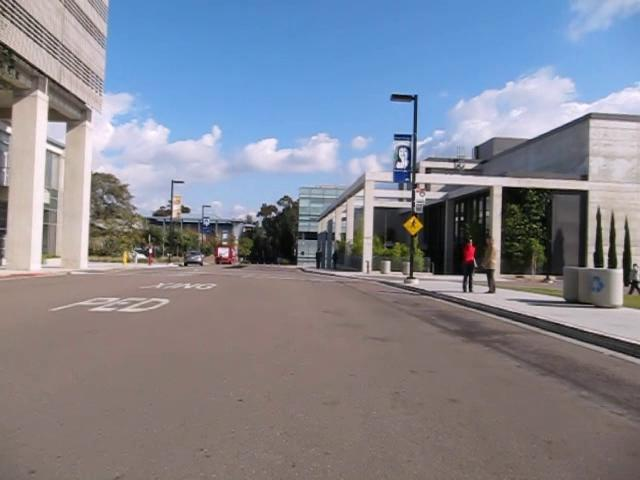pedestrianCrossing: (402, 214, 424, 236)
